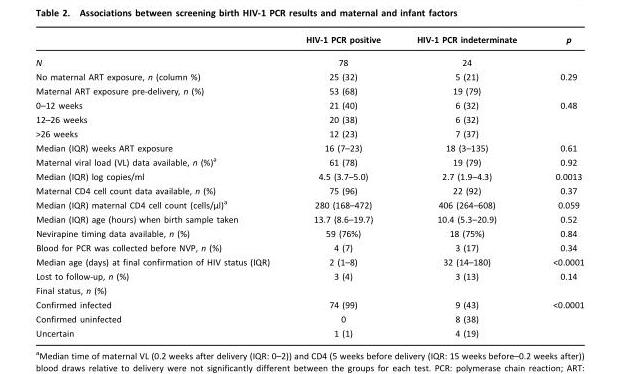table: (35, 35, 583, 337)
table column: (35, 35, 287, 337), (398, 35, 534, 337), (287, 35, 398, 337), (534, 35, 583, 337)
table column header: (35, 35, 583, 50)
table projected row header: (35, 283, 583, 297)
table row: (35, 50, 583, 69), (35, 196, 583, 212), (35, 35, 583, 50), (35, 97, 583, 112), (35, 154, 583, 169), (35, 254, 583, 269), (35, 311, 583, 326), (35, 69, 583, 83), (35, 83, 583, 97), (35, 112, 583, 126), (35, 126, 583, 140), (35, 140, 583, 154), (35, 169, 583, 183), (35, 212, 583, 226), (35, 226, 583, 240), (35, 240, 583, 254), (35, 269, 583, 283), (35, 283, 583, 297), (35, 297, 583, 311), (35, 183, 583, 196), (35, 326, 583, 337)
